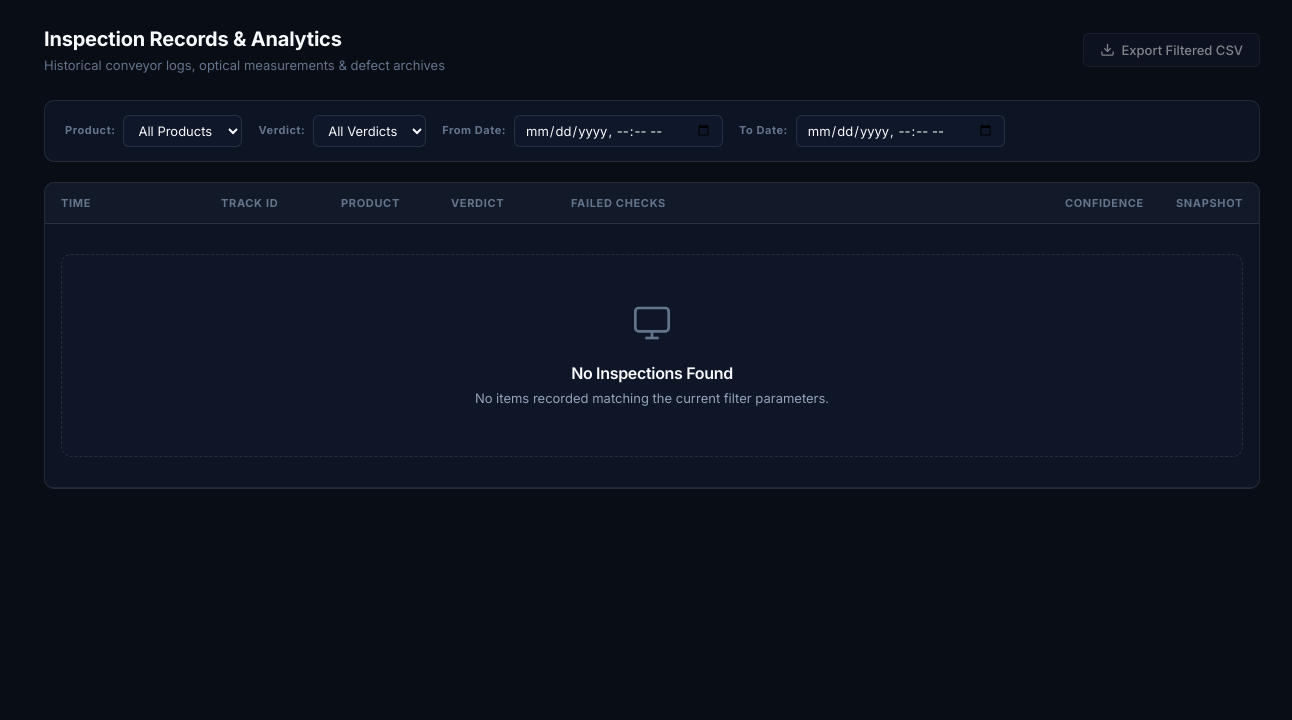
it: Day 6 Part B Comprehensive Tests › Filters to URL Query String Logic › syncs filter changes into the URL query string and clears them on reset
# Select product 'cap'
Select "Bottle Cap" in the dropdown with test id "filter-product" at coordinates (183, 130), box 124,114 -> 242,146
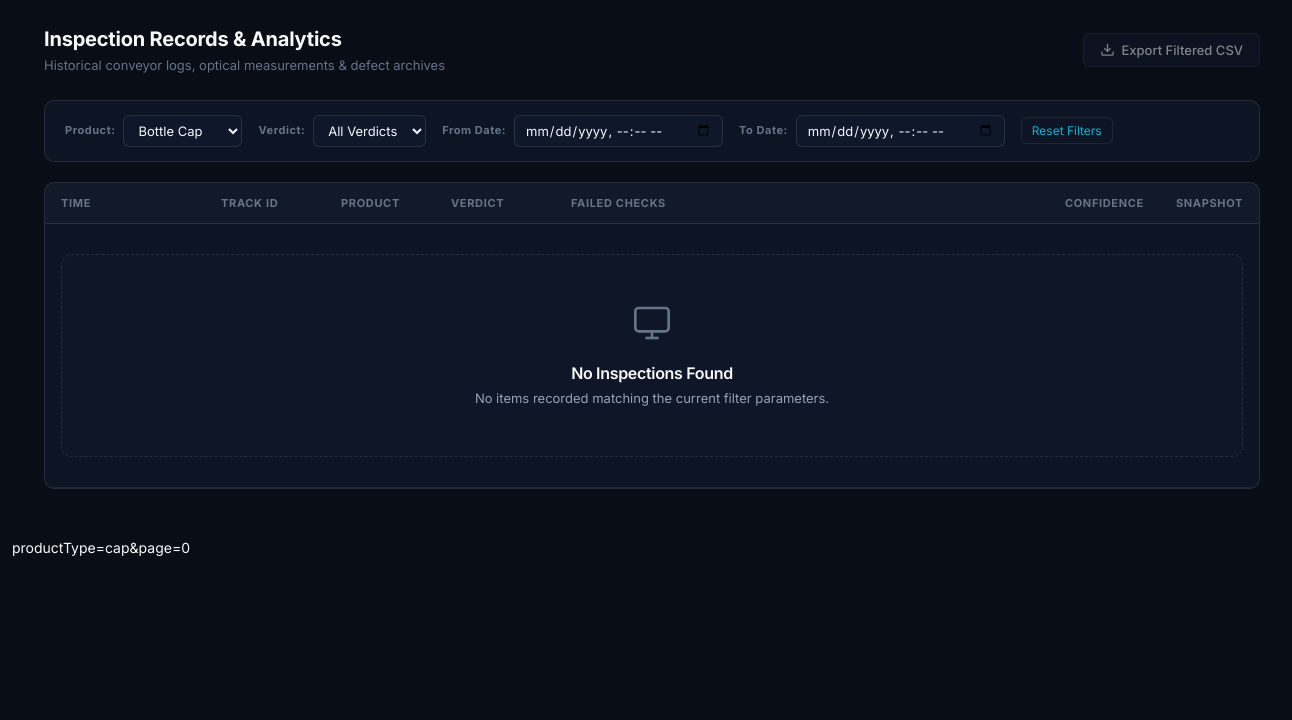
Expected: the text with test id "url-debug" shows "productType=cap", 12,539 -> 190,556
# Select verdict 'REJECT'
Select "REJECT" in the dropdown with test id "filter-verdict" at coordinates (370, 130), box 313,114 -> 426,146
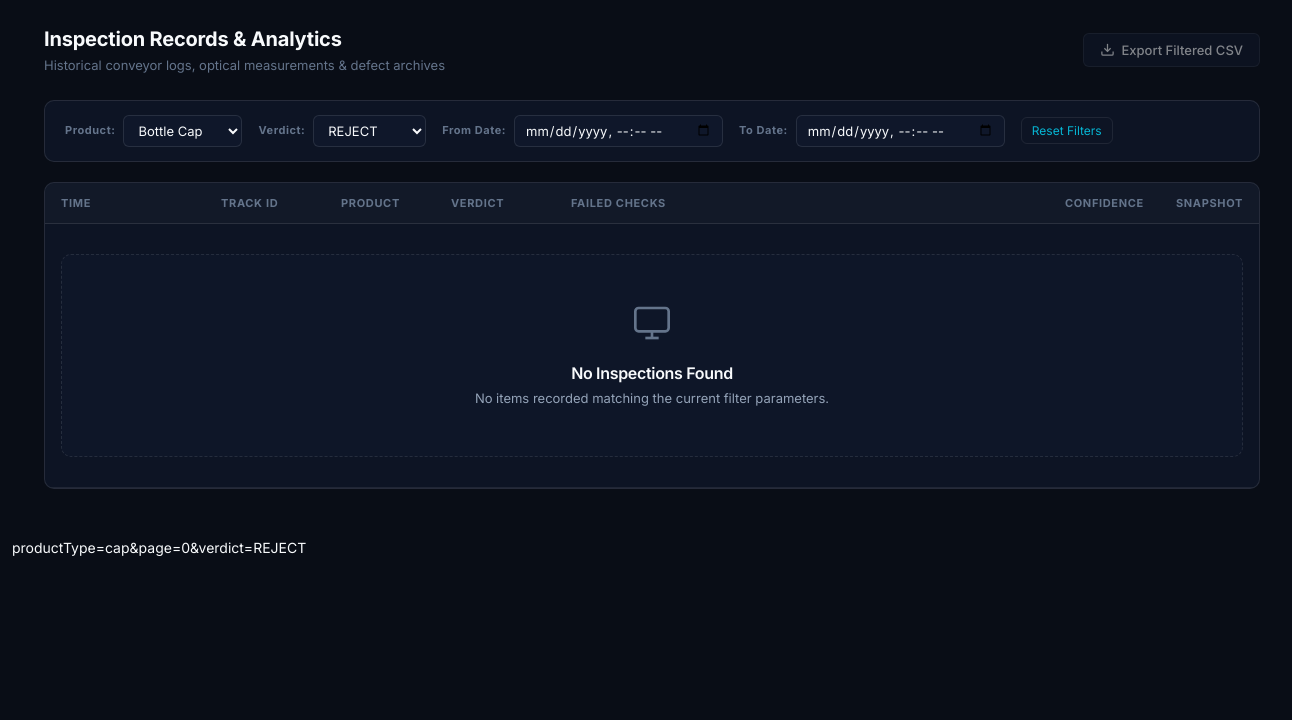
Expected: the text with test id "url-debug" shows "verdict=REJECT", 12,539 -> 306,556
# Reset filters
Click the button "Reset Filters" at coordinates (1067, 130), box 1021,117 -> 1113,144
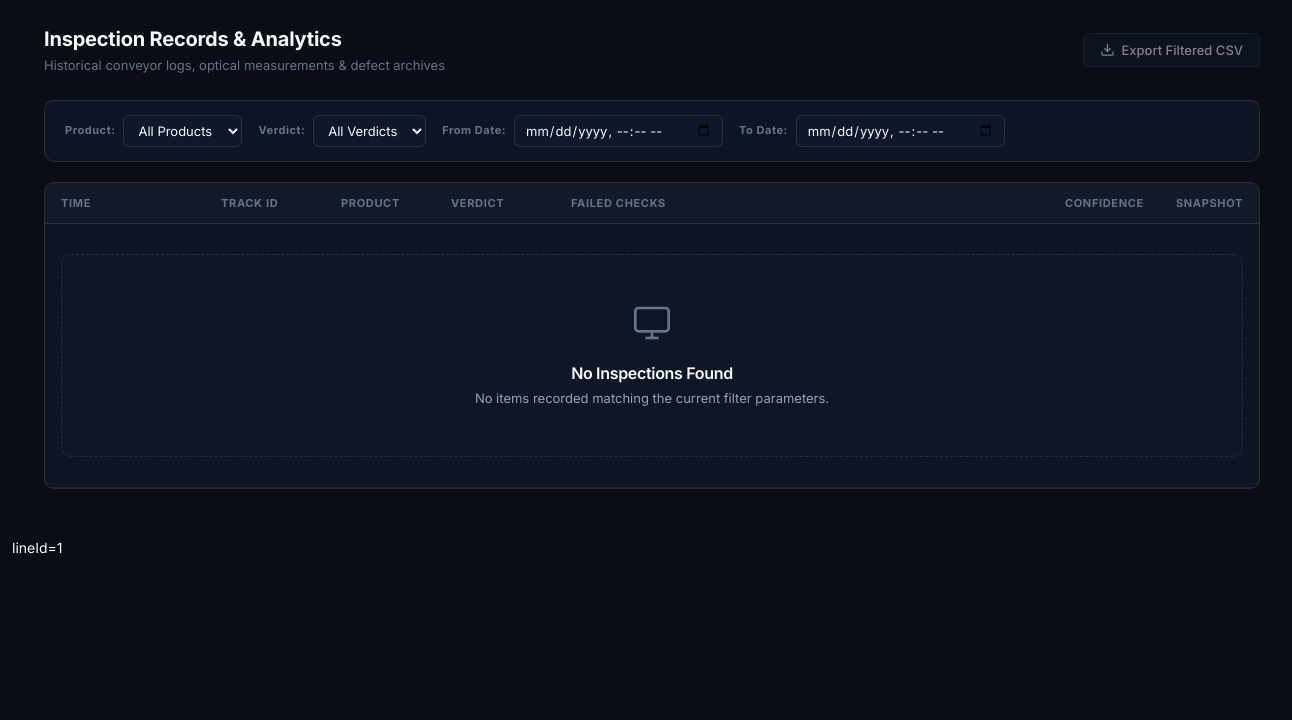
Expected: the text with test id "url-debug" no longer shows "productType=cap"
Expected: the text with test id "url-debug" no longer shows "verdict=REJECT"
